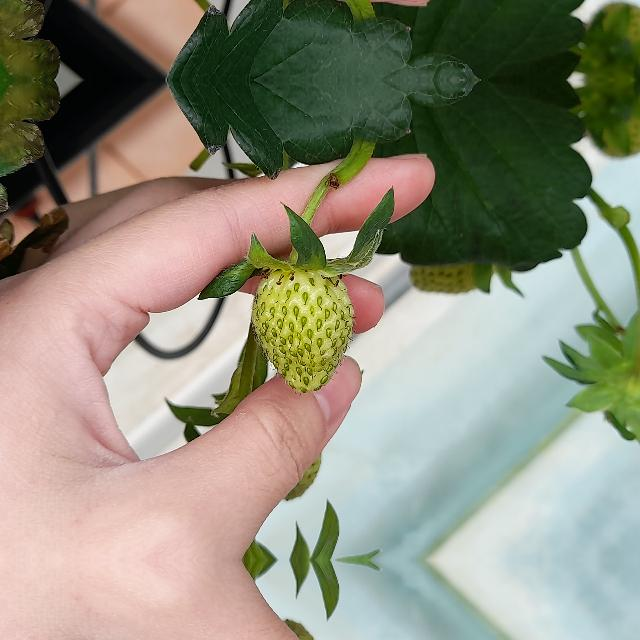Health_25: (251, 269, 355, 393)
